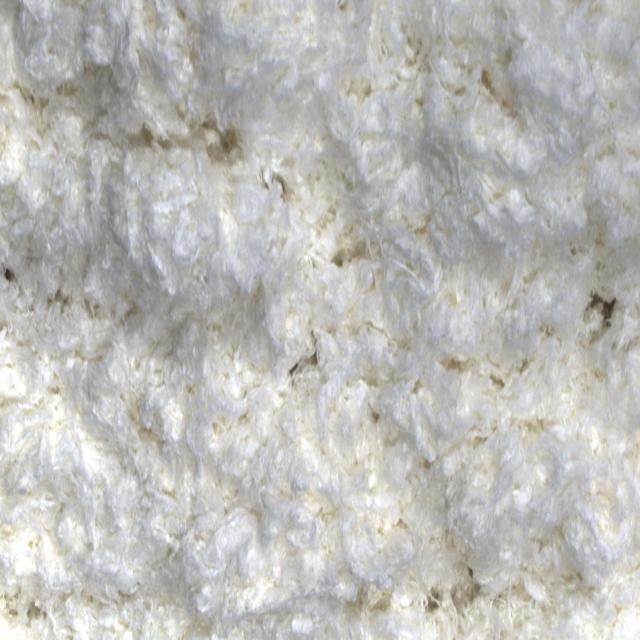dust: (595, 295, 615, 338)
